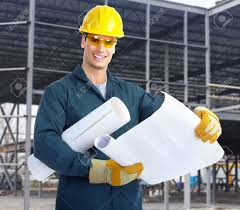Person_wearing_helmet: (75, 1, 126, 42)
